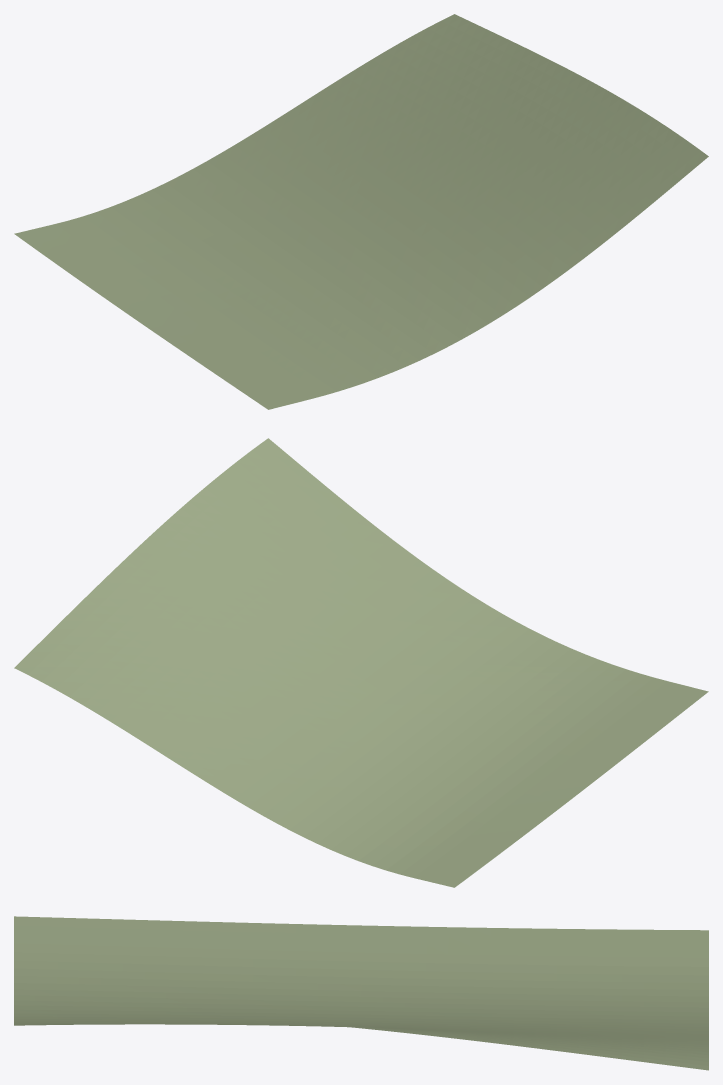
File: expanse-21-27.glb
3 renders of one model, top to bottom at view 1: azimuth 30°, elevation 25°; view 2: azimuth 150°, elevation 25°; view 3: azimuth 270°, elevation 25°, orthographic. The views are drawn at different scales.
Parts seen in each view (by area): view 1: expanse-21-27; view 2: expanse-21-27; view 3: expanse-21-27.
Part boxes in pixels (<box>): expanse-21-27: <box>14,14,708,409</box>; expanse-21-27: <box>14,438,708,887</box>; expanse-21-27: <box>14,916,708,1070</box>.
Size of the model in its own units: 256 by 86.79 by 256.
